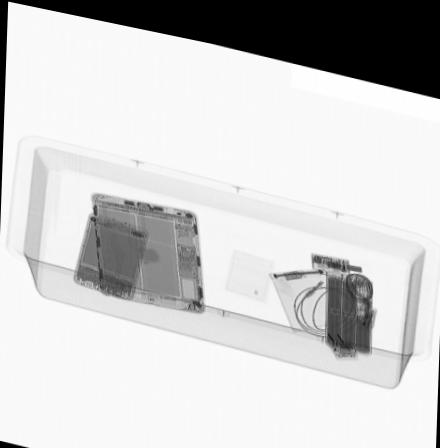Powerbank: (324, 256, 373, 339)
